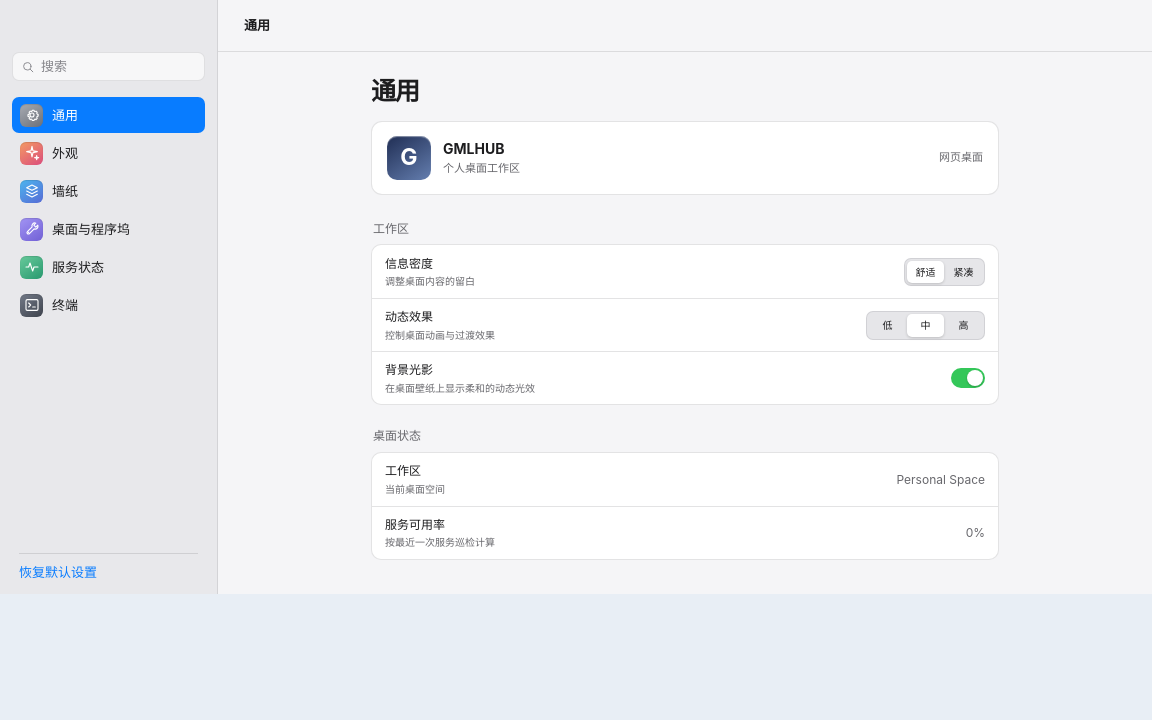
Test: system settings › searches setting names and shows a useful empty state
Type "字体大小" into the search field named "搜索设置" at (118, 66), box [41,57,196,76]
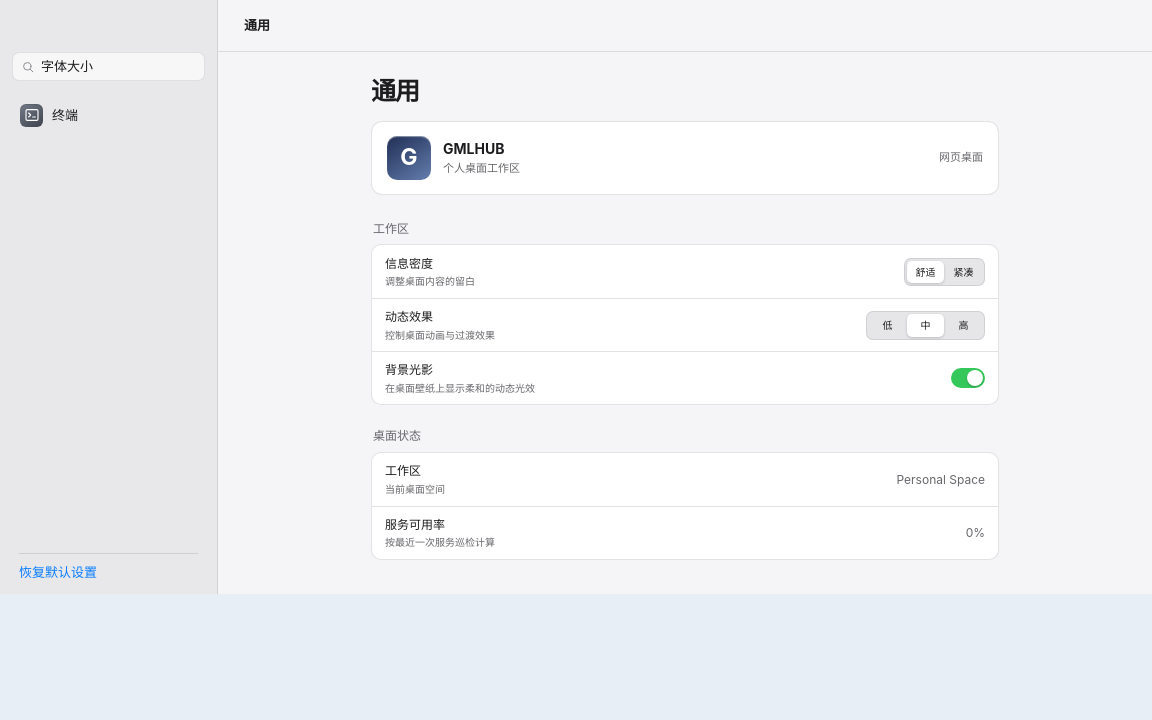
expect the elements with class "settings-nav-item" read "终端", in this order: met
Click the button "终端" at (108, 115), box [12,97,205,133]
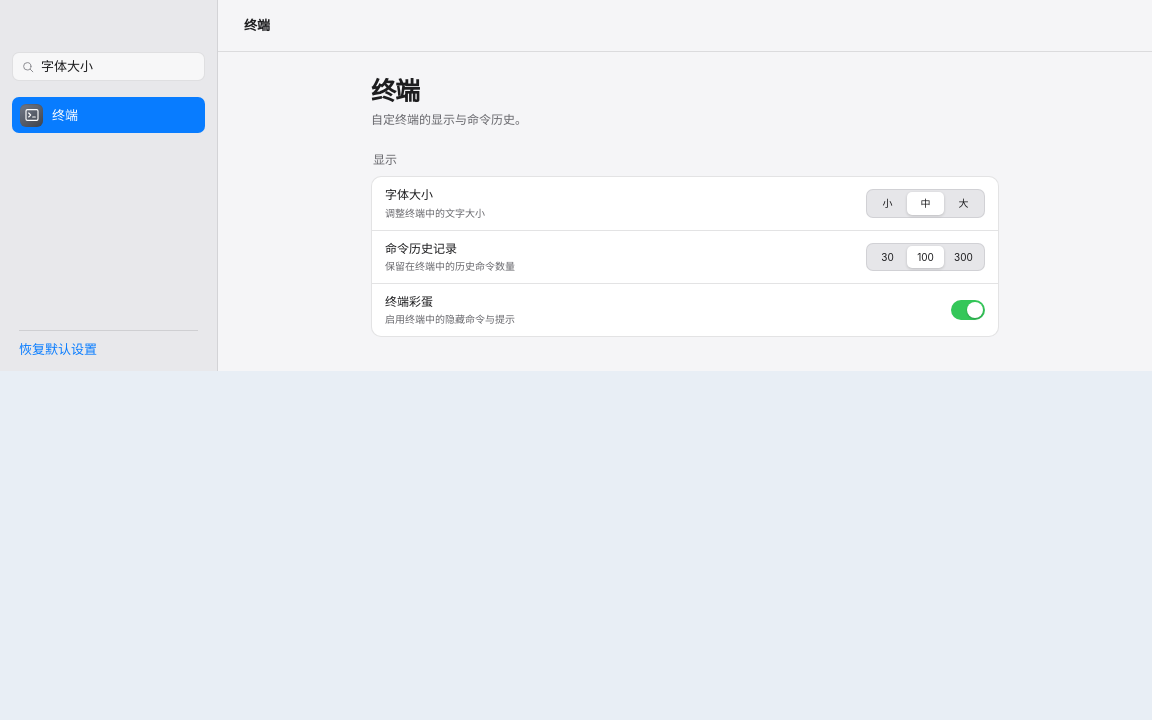
expect the heading "终端" is shown: met, box [371,76,419,106]
Replace the text in the search field named "搜索设置" with "不存在的设置" at (118, 66), box [41,57,196,76]
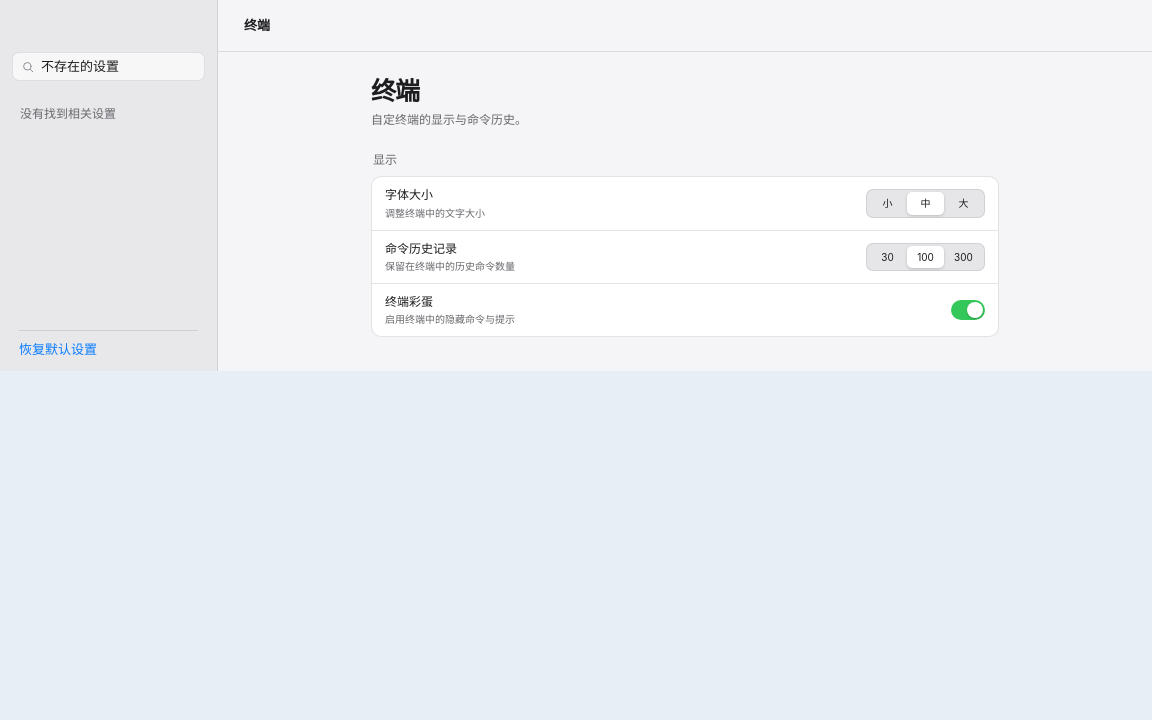
expect no buttons with class "settings-nav-item" are shown: met
expect the text with class "settings-no-results" reads "没有找到相关设置": met, box [20,106,116,121]
Clear the search field named "搜索设置" at (118, 66), box [41,57,196,76]
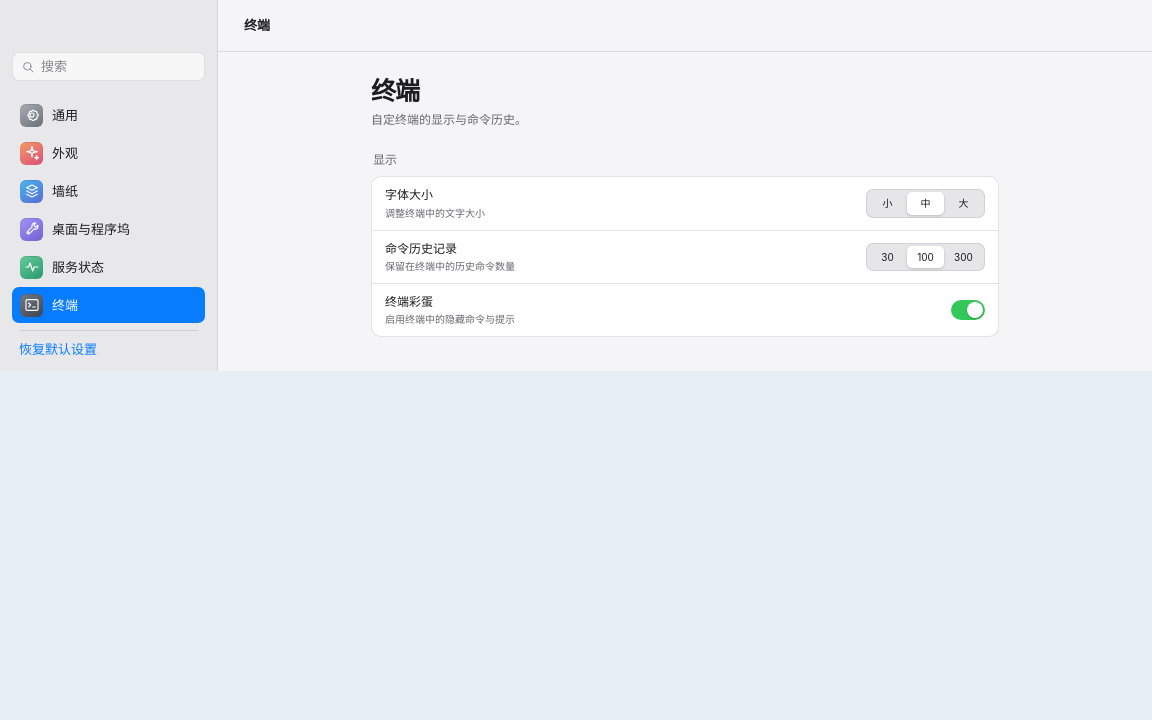
expect the number of buttons with class "settings-nav-item" is 6: met, box [12,97,205,133]; [12,135,205,171]; [12,173,205,209]; [12,211,205,247]; [12,249,205,285]; [12,287,205,323]
